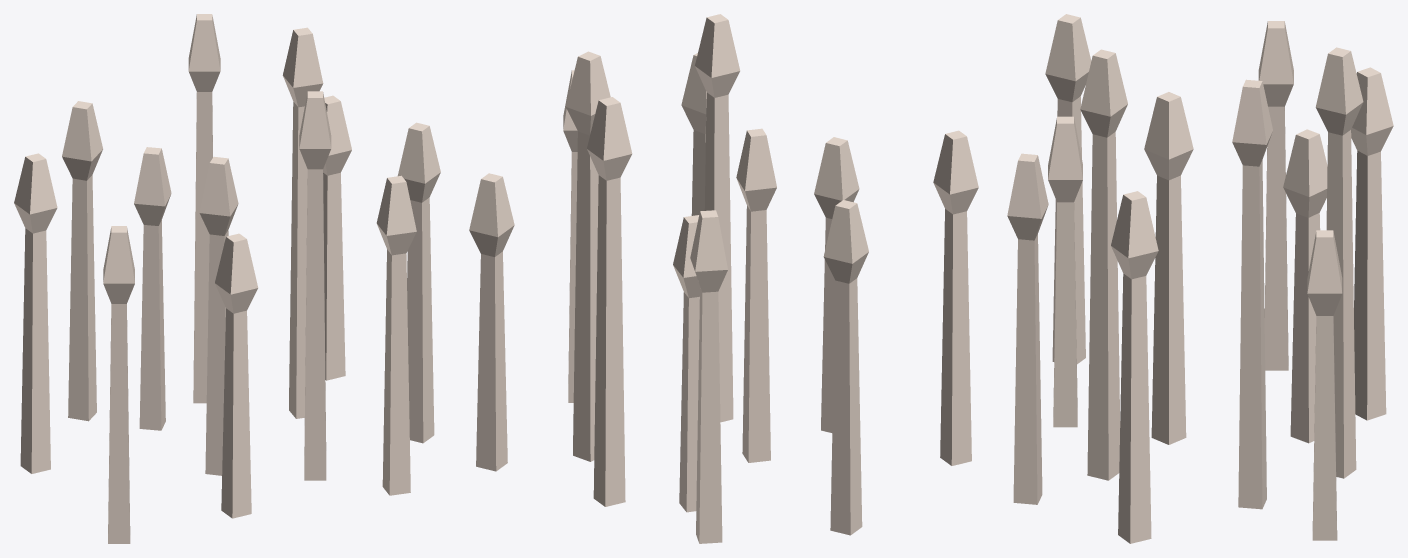
File: kn_crops_wheatstageb.fbx
3 views of the same model, side by side, from view 1: azimuth 30°, elevation 25°; view 2: azimuth 150°, elevation 25°; view 3: azimuth 270°, elevation 25° (orthographic). The views are drawn at different scales.
Parts seen in each view (by area): view 1: kn_crops_wheatstageb_LOD0; view 2: kn_crops_wheatstageb_LOD0; view 3: kn_crops_wheatstageb_LOD0.
Part boxes in pixels (<box>): kn_crops_wheatstageb_LOD0: <box>14,14,440,543</box>; kn_crops_wheatstageb_LOD0: <box>469,14,978,543</box>; kn_crops_wheatstageb_LOD0: <box>1007,14,1393,543</box>.
Size of what is drawn, in the model's own units: 1.01 by 1 by 0.8351.
1 material, 1 textured.
